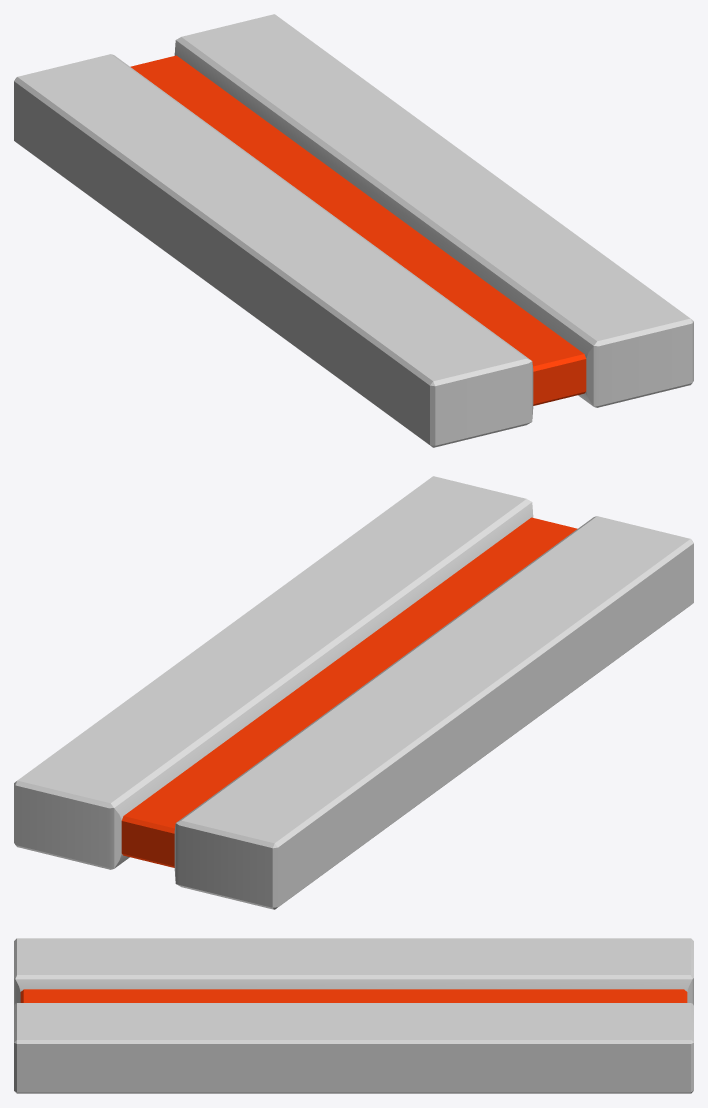
The model's file is Platform_1.FBX.
The picture shows the model from 3 angles, top to bottom: view 1: azimuth 30°, elevation 25°; view 2: azimuth 150°, elevation 25°; view 3: azimuth 270°, elevation 25°; orthographic projection. The views are drawn at different scales.
Parts seen in each view (by area): view 1: Box002; view 2: Box002; view 3: Box002.
Boxes of the visible parts, x1,y1,x2,y2 form: Box002: (14,14,693,447); Box002: (14,476,693,909); Box002: (14,938,693,1093).
Bounding box in the file's own units: 39.58 × 109 × 9.54.
